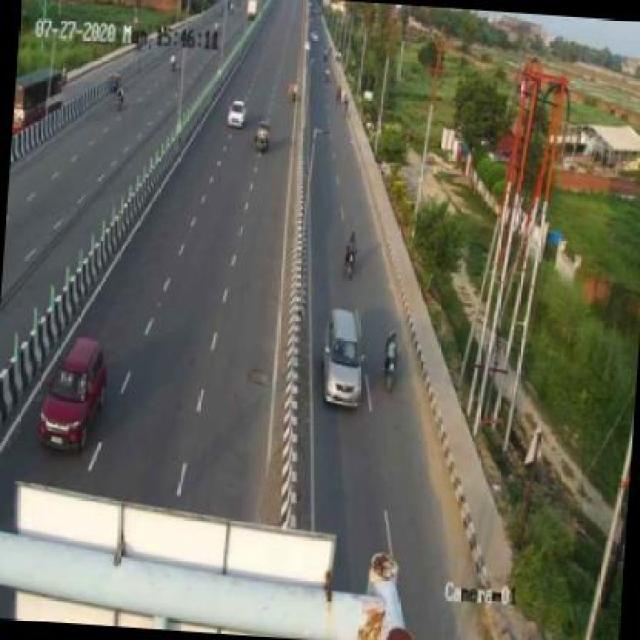car: (31, 325, 120, 457), (323, 308, 368, 409), (225, 94, 249, 131)
